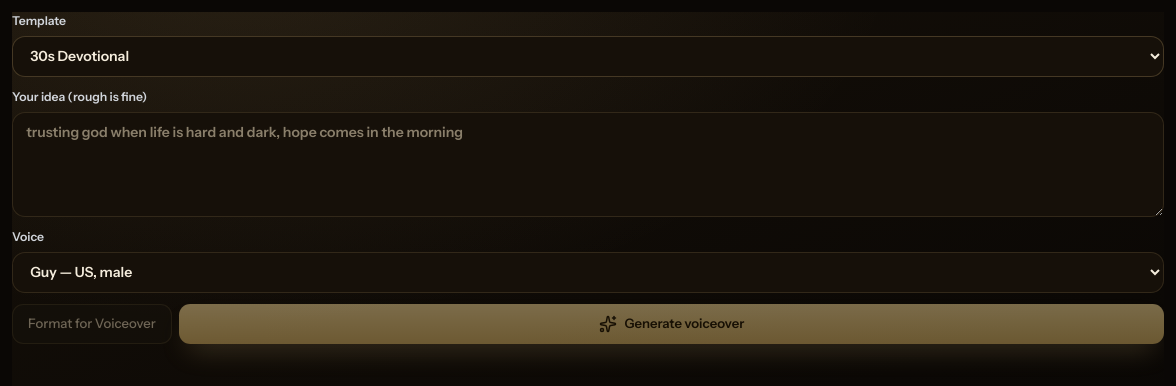
ScriptForm › disables Generate until the idea has text
Expected: the button "Generate voiceover" is disabled, [179, 304, 1164, 344]
Type "trust God in hard times" into the text box labelled "Your idea (rough is fine)". click: (588,164)
box: [12, 112, 1164, 217]
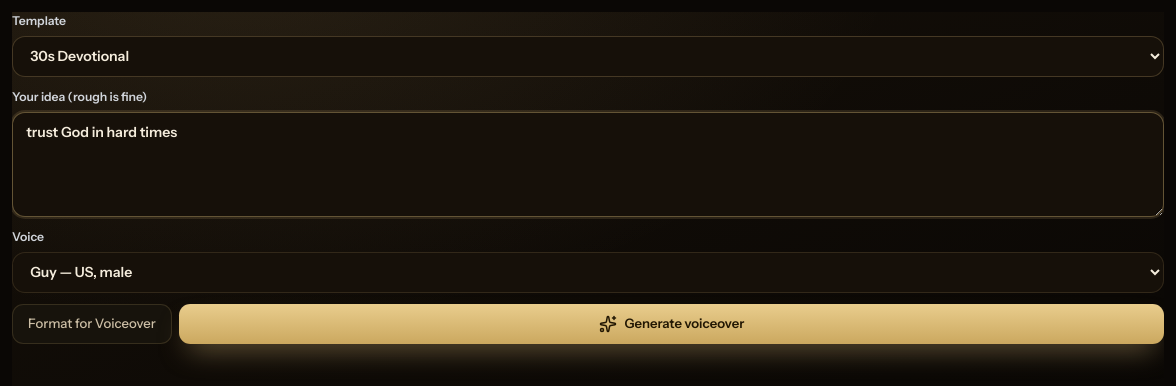
Expected: the button "Generate voiceover" is enabled, [179, 304, 1164, 344]
